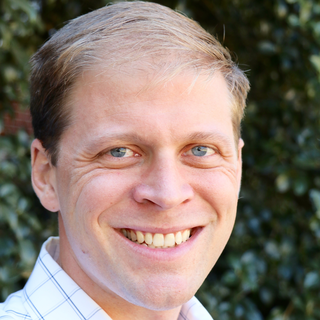eye: (94, 142, 145, 166), (177, 141, 223, 164)
